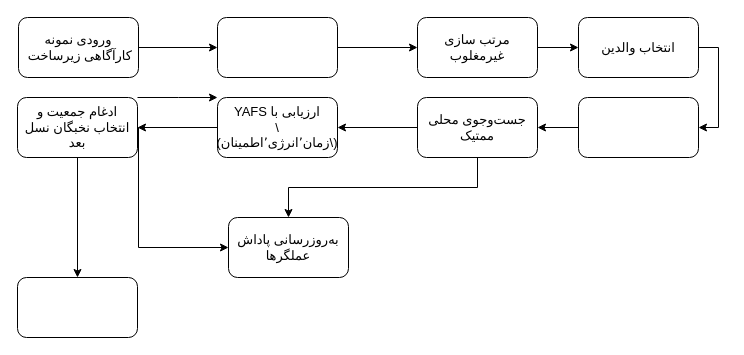
Some shapes in this 744 by 355 pixel diagram are drawn without their labels. Here are the shapes that lost their labels. From the top down, the centre of each, then its label:
At (277,47): "مقداردهی اولیه هوشمند".
At (638,127): "تفاطع و جهش تطبیقی \(UCB1\)".
At (77,307): "جبهه پارتوی نهایی".
